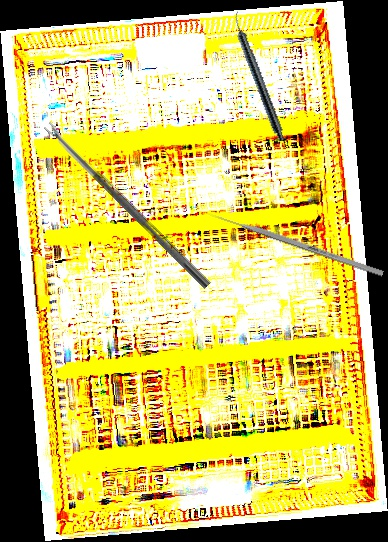Handpiece: (227, 10, 290, 143)
Pusher: (206, 210, 385, 277)
Surgical Spoon: (43, 121, 212, 289)
